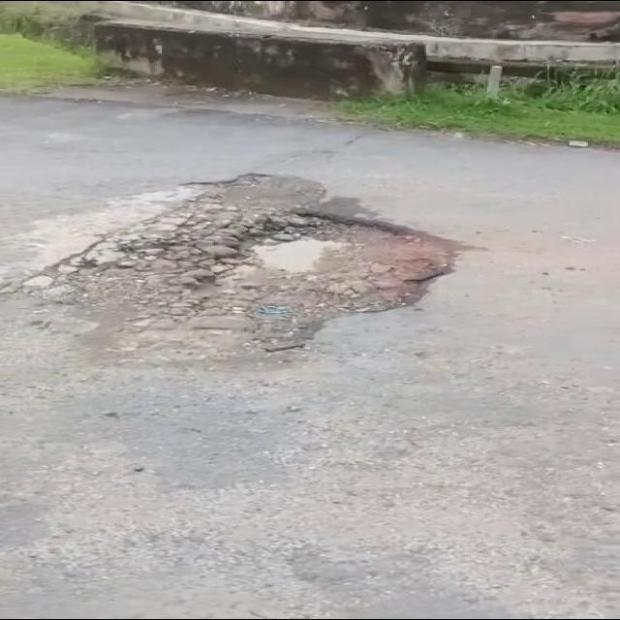lubang: (22, 174, 455, 352)
